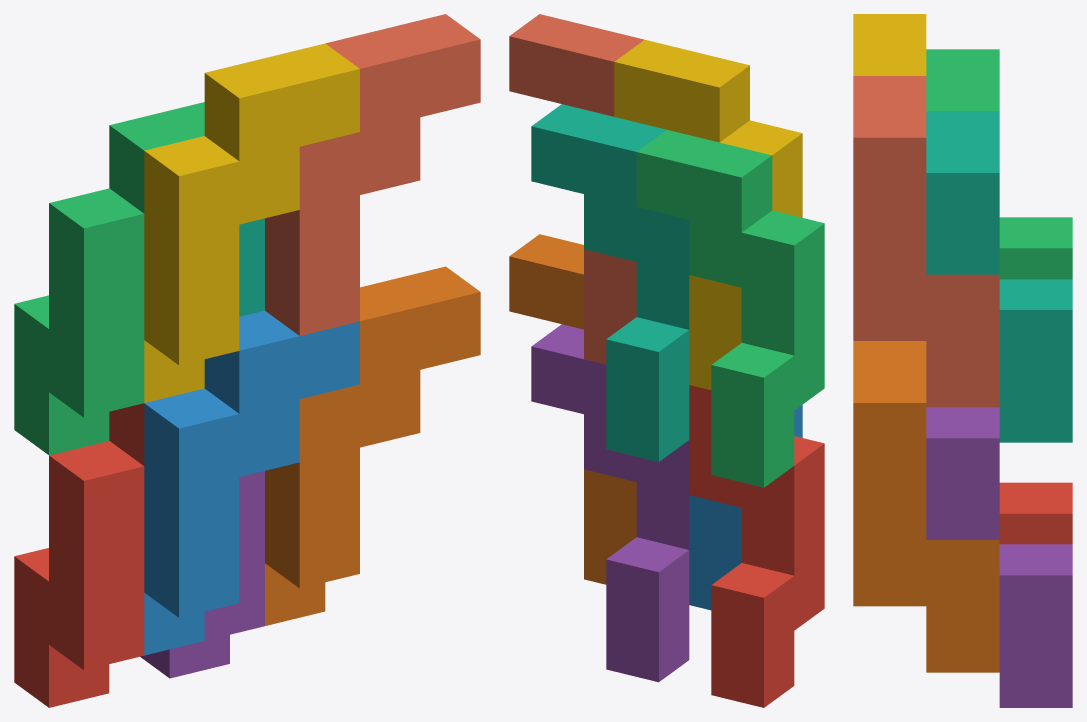
The model's file is tiling.obj.
3 views of the same model, side by side, from view 1: azimuth 30°, elevation 25°; view 2: azimuth 150°, elevation 25°; view 3: azimuth 270°, elevation 25° (orthographic). The views are drawn at different scales.
Visible parts, largest first — view 1: copy_1_domain_4, copy_1_domain_2, copy_1_domain_6, copy_1_domain_3, copy_1_domain_8, copy_1_domain_1, copy_1_domain_5, copy_1_domain_7; view 2: copy_1_domain_3, copy_1_domain_7, copy_1_domain_1, copy_1_domain_5, copy_1_domain_4, copy_1_domain_8, copy_1_domain_6, copy_1_domain_2; view 3: copy_1_domain_6, copy_1_domain_8, copy_1_domain_7, copy_1_domain_5, copy_1_domain_3, copy_1_domain_1, copy_1_domain_4.
Boxes of the visible parts, left/top/right/bottom form: copy_1_domain_4: left=144, top=43, right=359, bottom=402; copy_1_domain_2: left=144, top=310, right=359, bottom=655; copy_1_domain_6: left=265, top=266, right=480, bottom=625; copy_1_domain_3: left=14, top=102, right=204, bottom=455; copy_1_domain_8: left=265, top=14, right=480, bottom=335; copy_1_domain_1: left=14, top=403, right=144, bottom=707; copy_1_domain_5: left=140, top=471, right=264, bottom=678; copy_1_domain_7: left=239, top=218, right=264, bottom=316; copy_1_domain_3: left=636, top=130, right=824, bottom=487; copy_1_domain_7: left=531, top=104, right=689, bottom=461; copy_1_domain_1: left=689, top=385, right=824, bottom=707; copy_1_domain_5: left=531, top=324, right=689, bottom=682; copy_1_domain_4: left=614, top=40, right=802, bottom=389; copy_1_domain_8: left=509, top=14, right=644, bottom=364; copy_1_domain_6: left=509, top=234, right=636, bottom=584; copy_1_domain_2: left=689, top=405, right=802, bottom=610; copy_1_domain_6: left=853, top=341, right=999, bottom=672; copy_1_domain_8: left=853, top=76, right=999, bottom=407; copy_1_domain_7: left=926, top=111, right=1072, bottom=442; copy_1_domain_5: left=926, top=407, right=1072, bottom=707; copy_1_domain_3: left=926, top=49, right=1072, bottom=279; copy_1_domain_1: left=999, top=482, right=1072, bottom=544; copy_1_domain_4: left=853, top=14, right=926, bottom=75.
Bounding box in the file's own units: 6 × 10 × 3.
